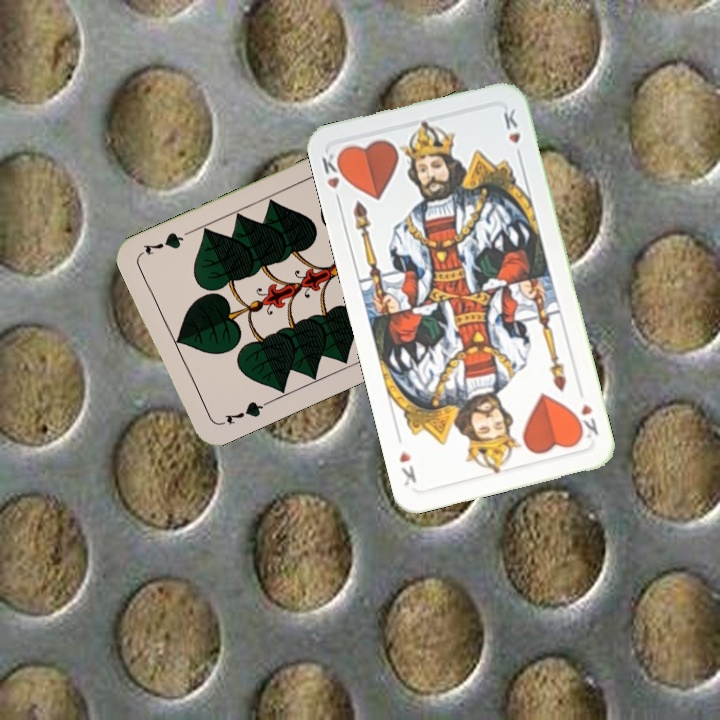G7: (220, 397, 271, 427)
HK: (318, 147, 350, 208), (571, 399, 601, 442)
